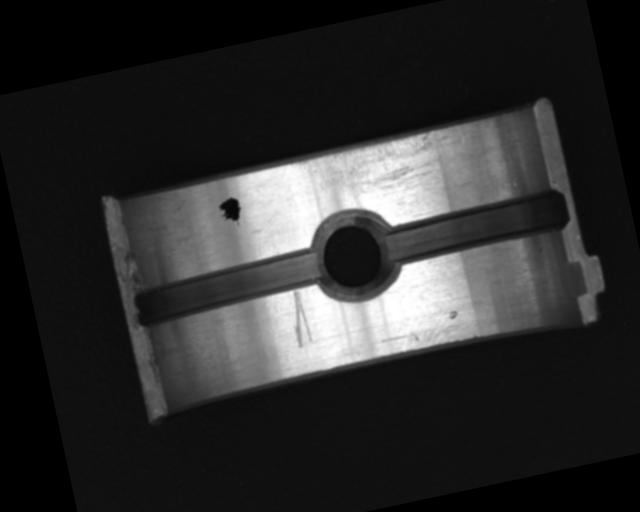blot: (215, 193, 246, 231)
bruise: (447, 309, 459, 320)
gap: (125, 244, 329, 333), (378, 187, 572, 271)
hole: (306, 204, 402, 305)
nick: (284, 287, 315, 349)
scratch: (288, 120, 474, 210)
